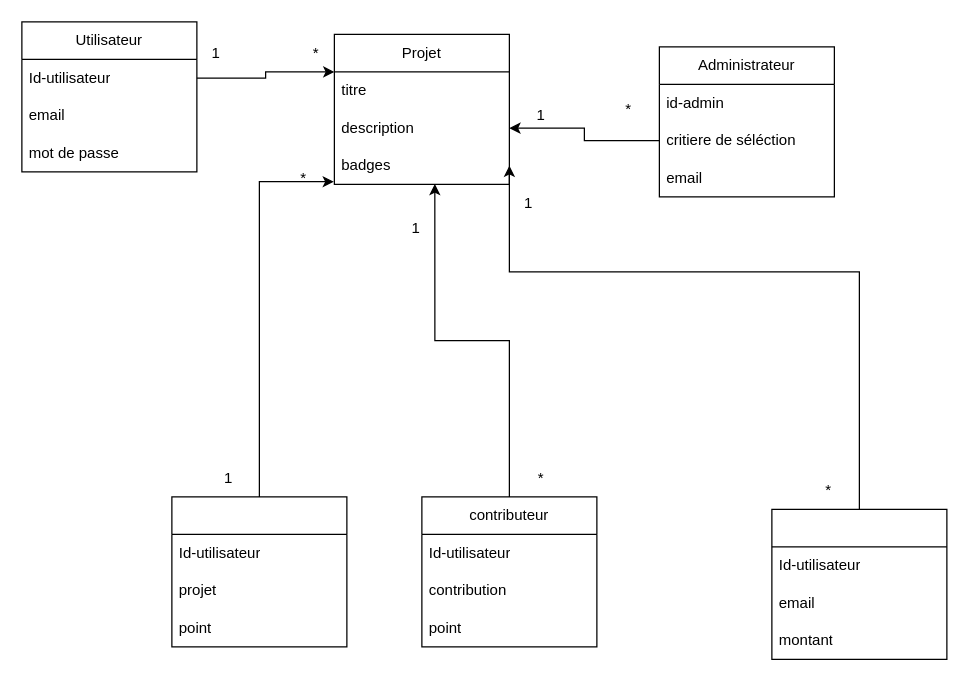
Some shapes in this 969 by 681 pixel diagram are drawn without their labels. The box of each missing label's shape, as (x1, y1, x2, y2) in pixels:
Initiateur: (171, 496, 347, 647)
investisseurs: (771, 508, 947, 659)
